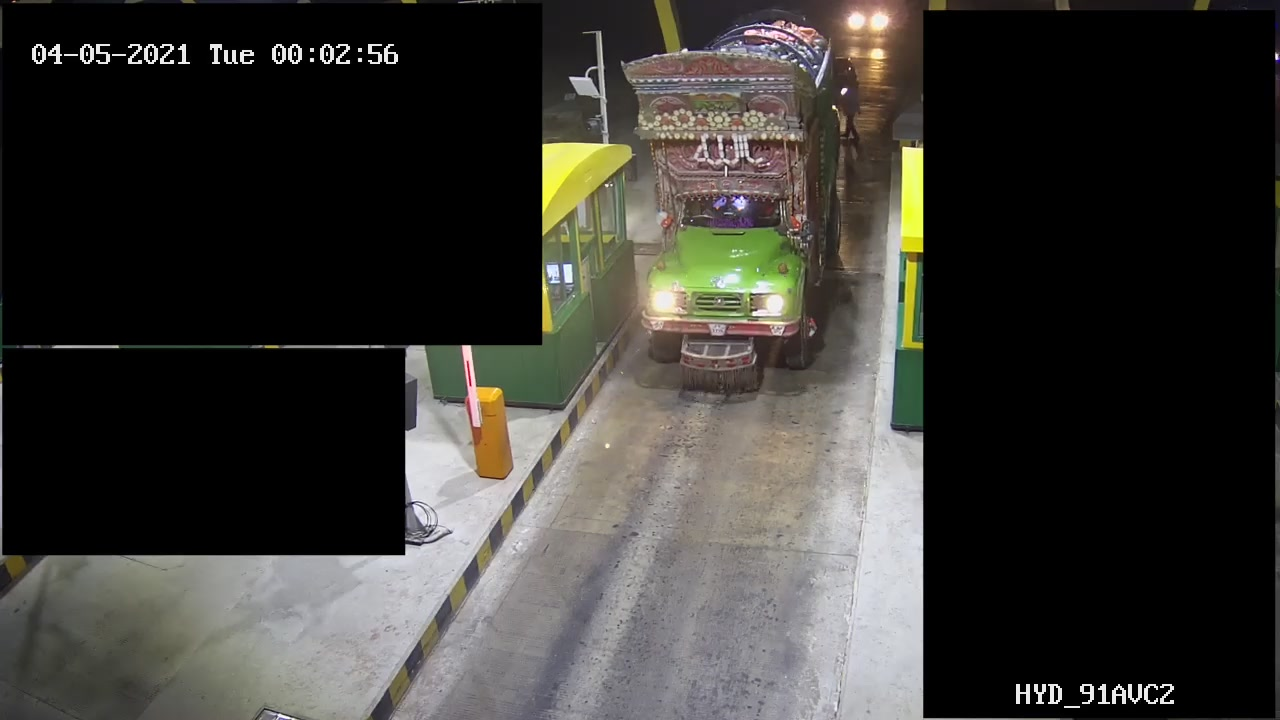F5: (619, 8, 837, 415)
